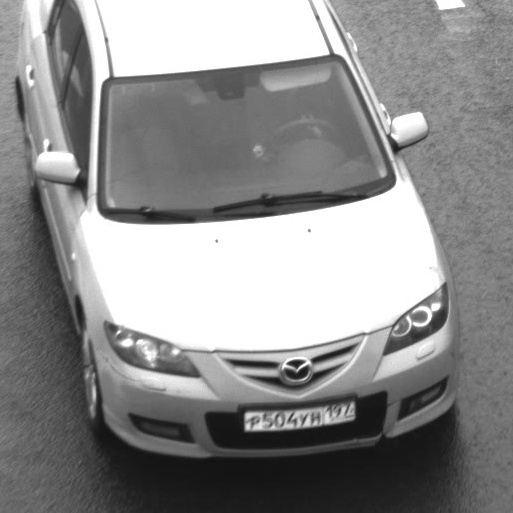plate: (234, 392, 362, 440)
